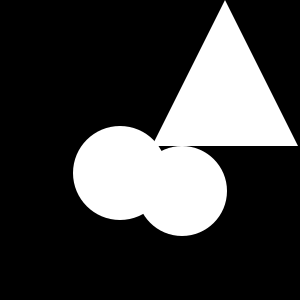rectangle: (73, 126, 167, 220), (137, 146, 227, 236)
triangle: (152, 0, 298, 146)
